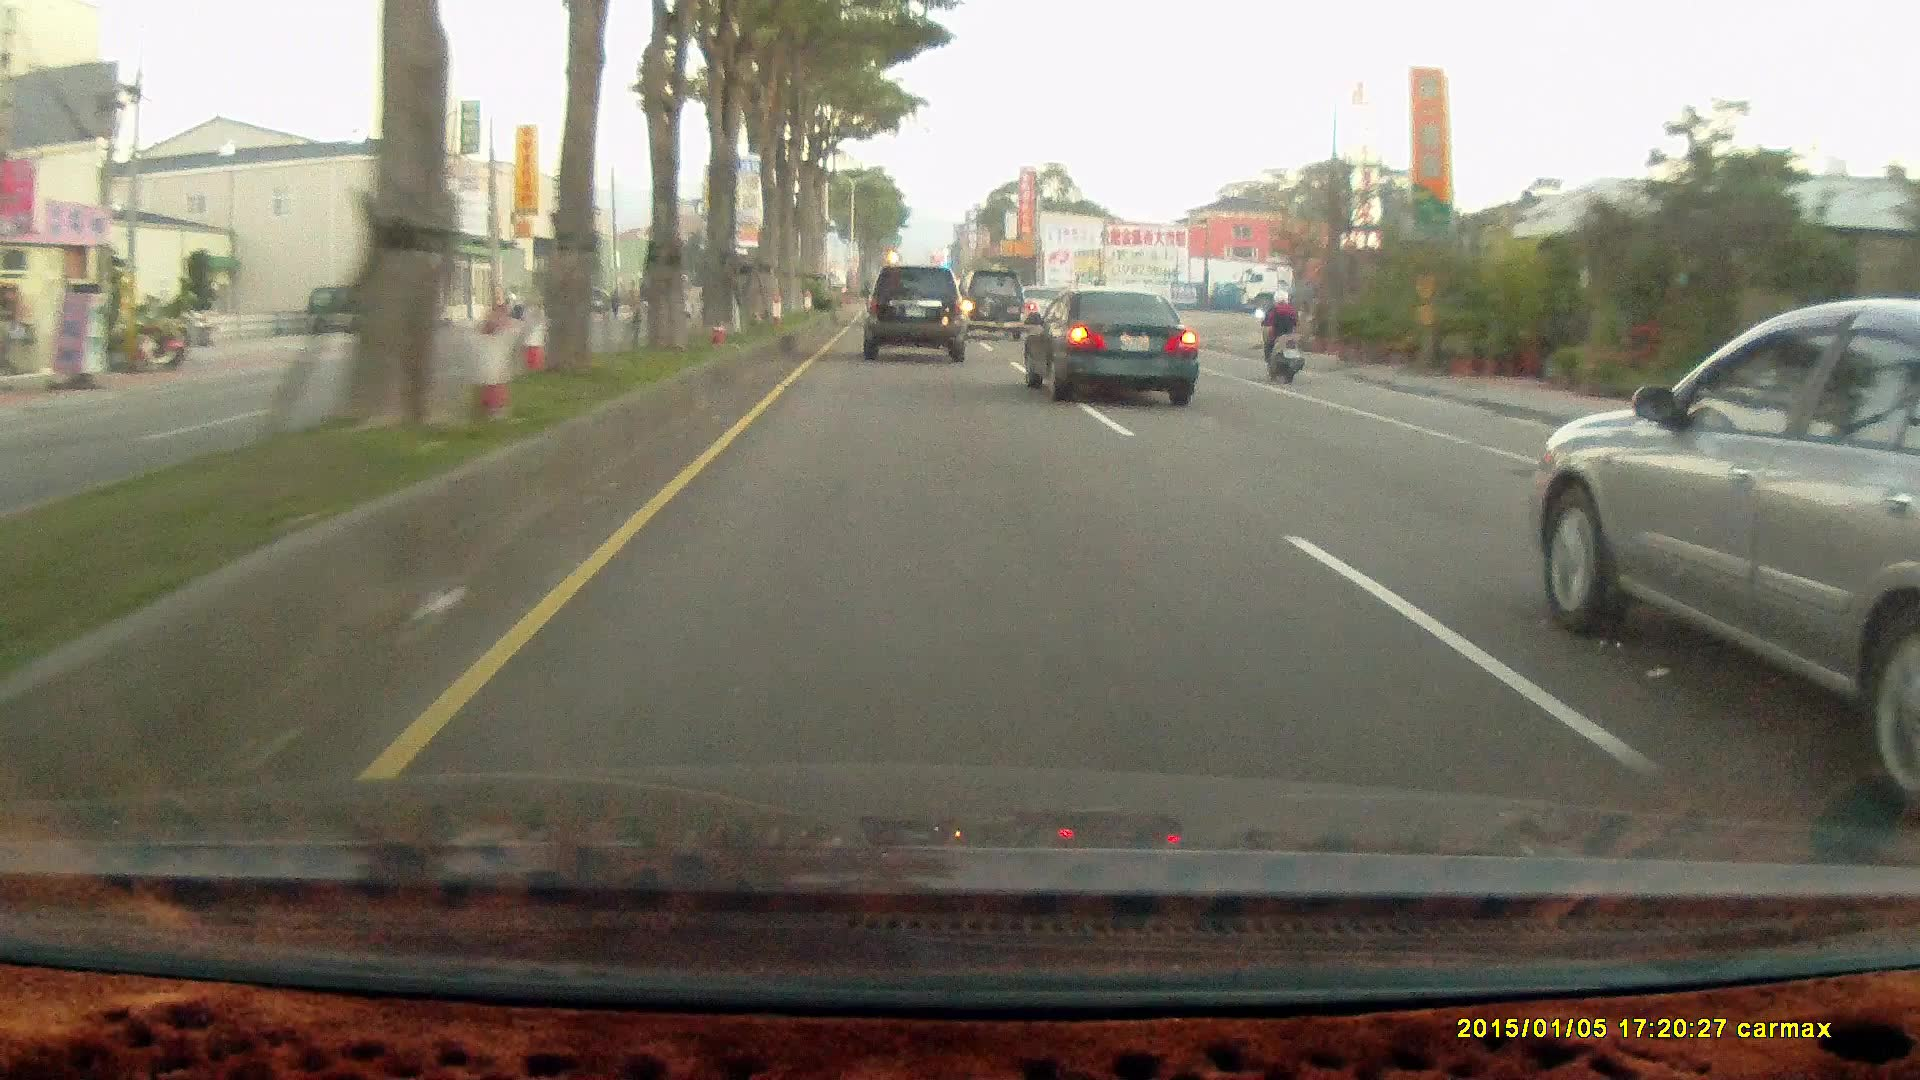rider: (1249, 280, 1315, 392), (1254, 287, 1305, 384)
vehicle: (1527, 296, 1918, 827), (1023, 283, 1198, 405), (1023, 286, 1203, 403), (1244, 262, 1463, 315), (860, 265, 972, 365), (861, 262, 966, 360), (303, 282, 410, 338), (954, 268, 1028, 343), (302, 286, 396, 334)
